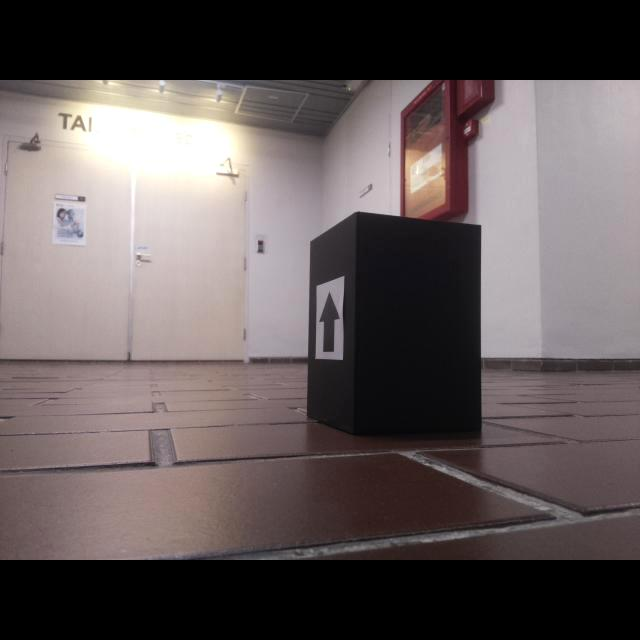UP: (318, 291, 341, 352)
